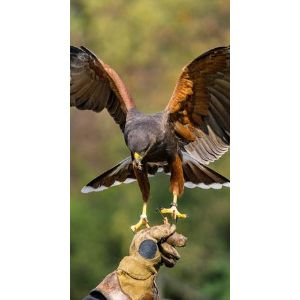hawk: (70, 36, 230, 241)
